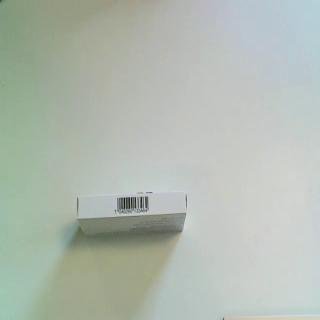oxycontin5mg: (76, 190, 189, 240)
